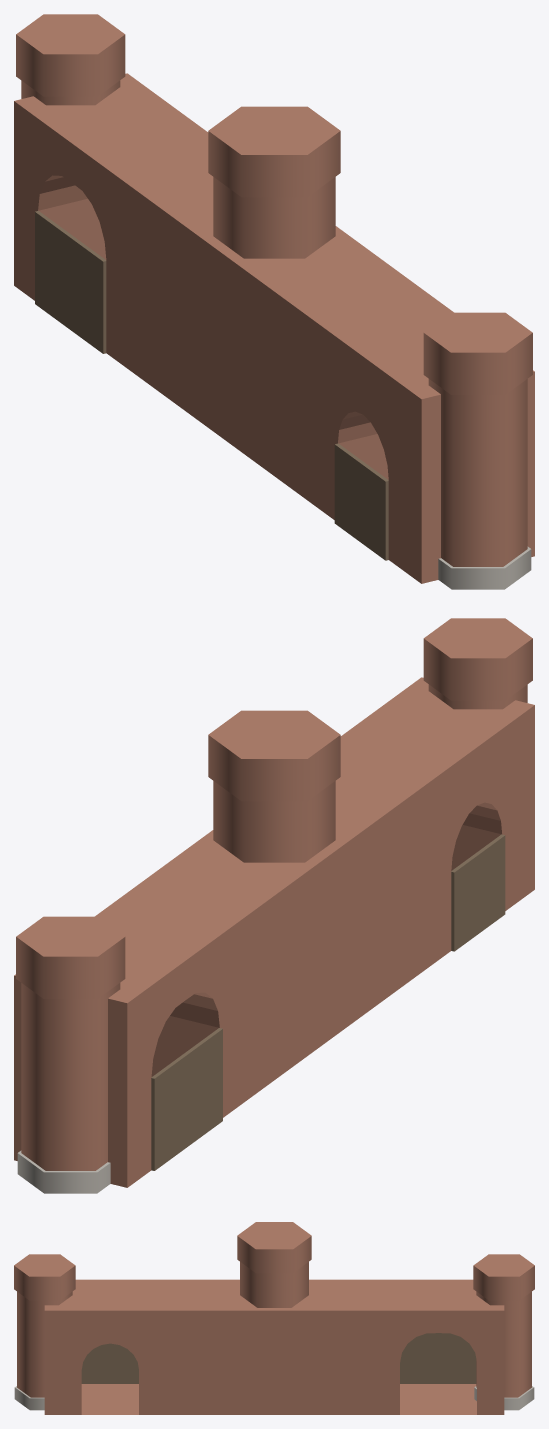
Rendered from portal_lisewo_1912.lod2.glb.
3 renders of one model, top to bottom at view 1: azimuth 30°, elevation 25°; view 2: azimuth 150°, elevation 25°; view 3: azimuth 270°, elevation 25°, orthographic. The views are drawn at different scales.
Visible parts, largest first — view 1: portal_lisewo_1912, gate_rail_right, gate_rail_left, gate_road_right, gate_road_left; view 2: portal_lisewo_1912, gate_rail_left, gate_rail_right, gate_road_left, gate_road_right; view 3: portal_lisewo_1912, gate_rail_left, gate_rail_right, gate_road_right, gate_road_left.
Part boxes in pixels (x1,y1,x2,y2): portal_lisewo_1912: [14, 14, 534, 589]; gate_rail_right: [69, 236, 106, 353]; gate_rail_left: [35, 211, 72, 328]; gate_road_right: [360, 462, 388, 560]; gate_road_left: [334, 443, 363, 541]; portal_lisewo_1912: [14, 618, 534, 1193]; gate_rail_left: [151, 1053, 188, 1170]; gate_rail_right: [185, 1028, 222, 1145]; gate_road_left: [451, 853, 479, 951]; gate_road_right: [476, 834, 505, 932]; portal_lisewo_1912: [14, 1222, 534, 1414]; gate_rail_left: [438, 1333, 476, 1383]; gate_rail_right: [400, 1333, 438, 1383]; gate_road_right: [81, 1343, 110, 1383]; gate_road_left: [110, 1343, 138, 1383].
Bounding box in the file's own units: 9.25 × 22 × 63.5.
